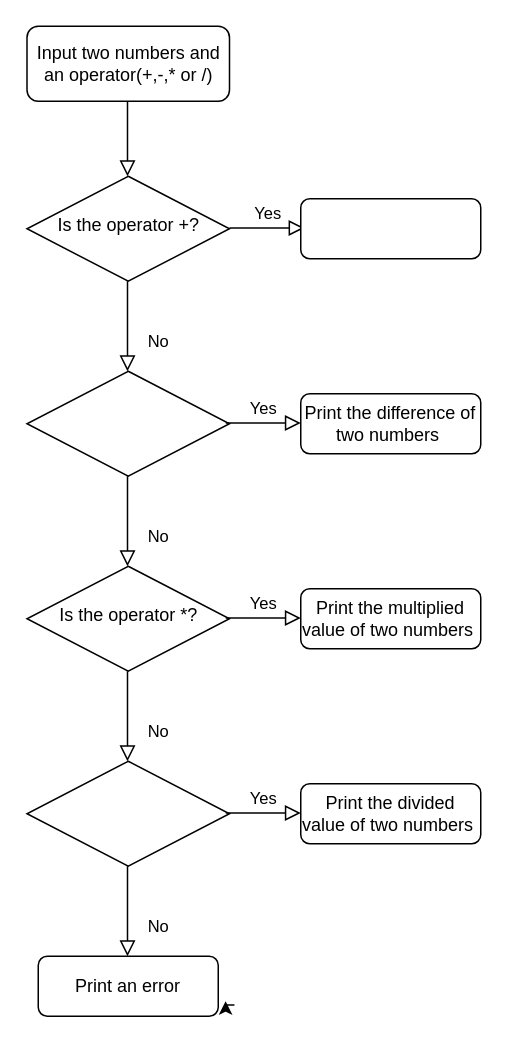
The diagram is 507 pixels wide and 1044 high, and some of its shapes have lost their labels. The shapes that lost their labels are listed below. From the top down, each one's centre as x and y in pixels, then its label:
At point 390,228: "Print the sum of two numbers".
At point 128,423: "Is the operator -?".
At point 128,813: "Is the operator /?".
